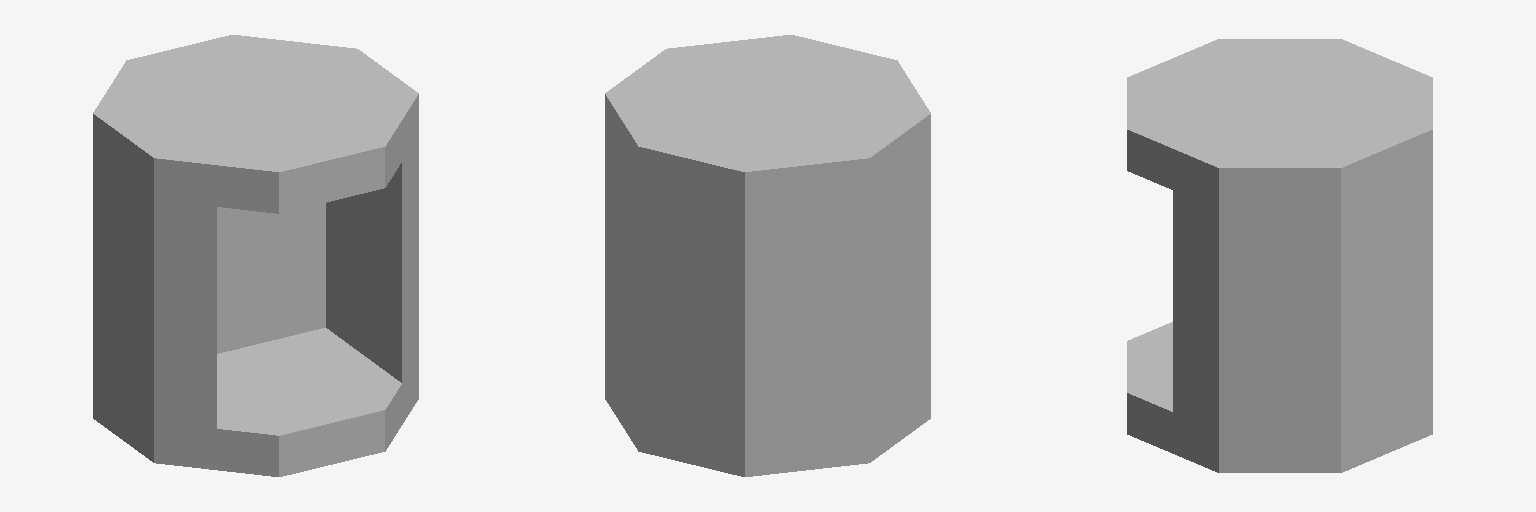
Rendered from child_wheel_alt.obj.
The picture shows the model from 3 angles: view 1: azimuth 30°, elevation 25°; view 2: azimuth 150°, elevation 25°; view 3: azimuth 270°, elevation 25°; orthographic projection.
Visible parts, largest first — view 1: Cylinder; view 2: Cylinder; view 3: Cylinder.
Part boxes in pixels (bbox=[...]): Cylinder: bbox=[93, 35, 418, 476]; Cylinder: bbox=[605, 35, 930, 476]; Cylinder: bbox=[1127, 39, 1432, 472].
Bounding box in the file's own units: 2 × 2.2 × 2.